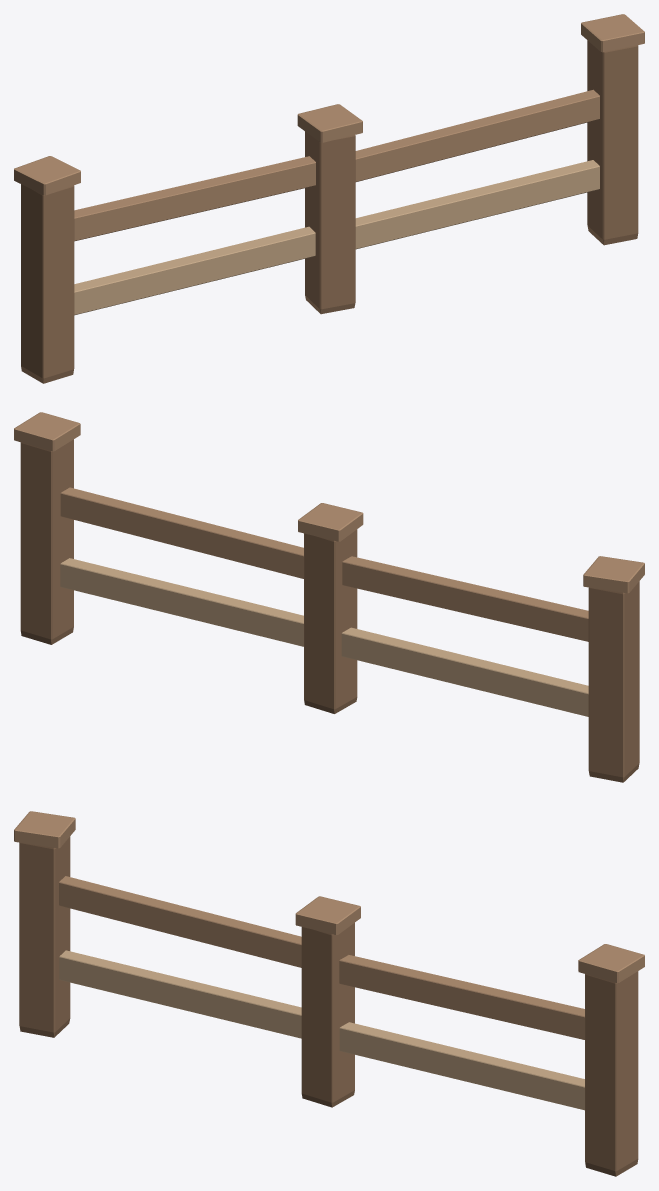
The model's file is fence_wood.glb.
3 renders of one model, top to bottom at view 1: azimuth 30°, elevation 25°; view 2: azimuth 150°, elevation 25°; view 3: azimuth 330°, elevation 25°, orthographic.
Visible parts, largest first — view 1: fence_wood; view 2: fence_wood; view 3: fence_wood.
Boxes of the visible parts, left/top/right/bottom form: fence_wood: left=14, top=14, right=644, bottom=383; fence_wood: left=14, top=412, right=644, bottom=782; fence_wood: left=14, top=811, right=644, bottom=1176.
Size of the model in its own units: 4.33 by 1.4 by 0.3458.
